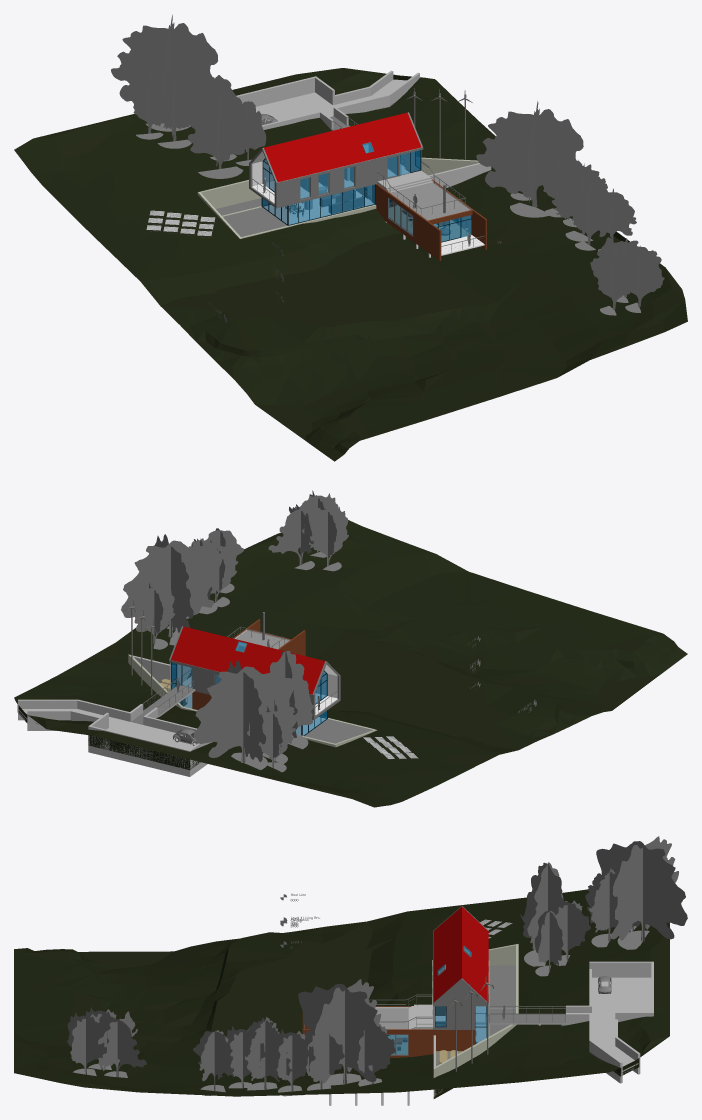
Rendered from 2023 racbasicsampleproject_rvt_1.dae.
The picture shows the model from 3 angles, top to bottom: view 1: azimuth 30°, elevation 25°; view 2: azimuth 150°, elevation 25°; view 3: azimuth 270°, elevation 25°; orthographic projection. The views are drawn at different scales.
Visible parts, largest first — view 1: node (×26); view 2: node (×23); view 3: node (×27).
Boxes of the visible parts, x1,y1,x2,y2 form: node (×26): (14, 14, 687, 461); node (×23): (14, 490, 687, 807); node (×27): (14, 836, 687, 1096).
Bounding box in the file's own units: 178 × 254 × 79.75.
